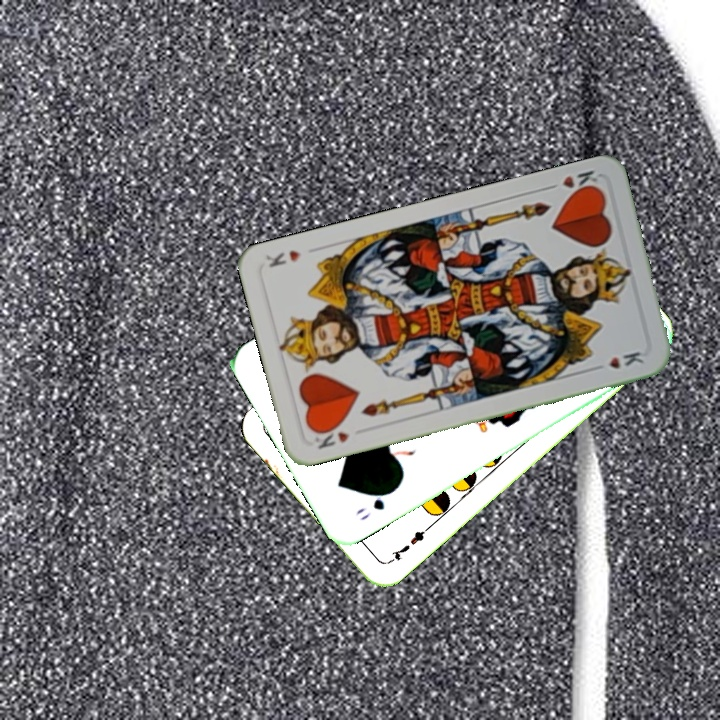E7: (384, 522, 433, 566)
GO: (352, 485, 398, 523)
HK: (542, 166, 603, 198), (307, 421, 352, 452)
